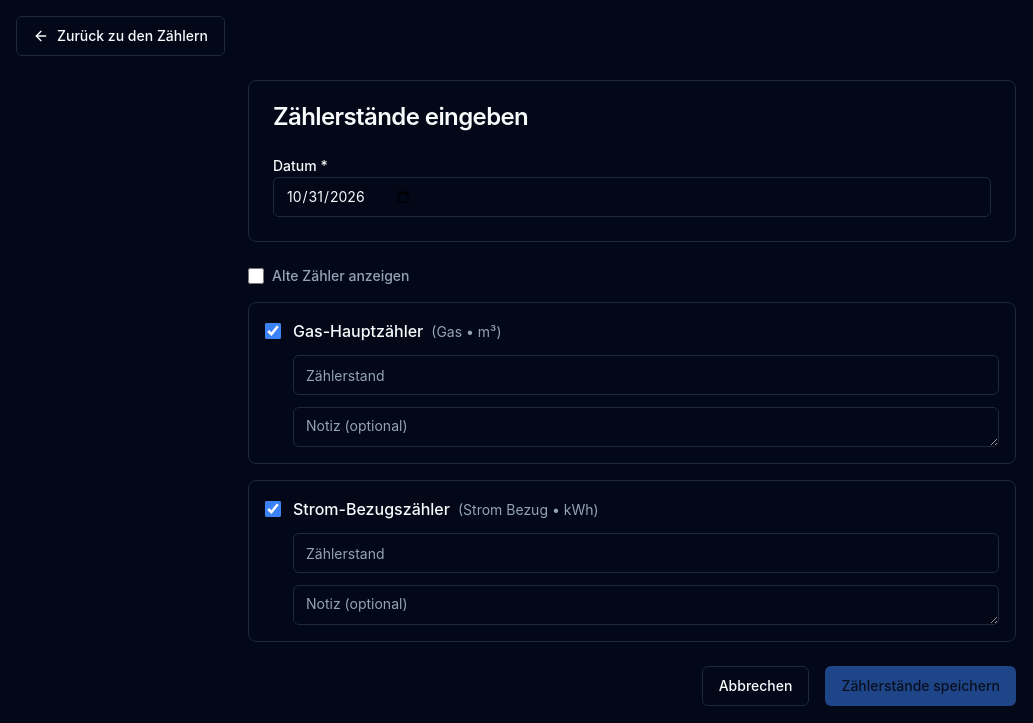
Scenario: AddReading (Zählerstände eintragen) › submits the entered value and chosen date for the filled meter only
Expected: the date field labelled "Datum *" is shown, [273,177,991,217]
Type "1234.5" into the number field labelled "Gas-Hauptzähler(Gas • m³)" at (646, 375), box [293,355,999,395]
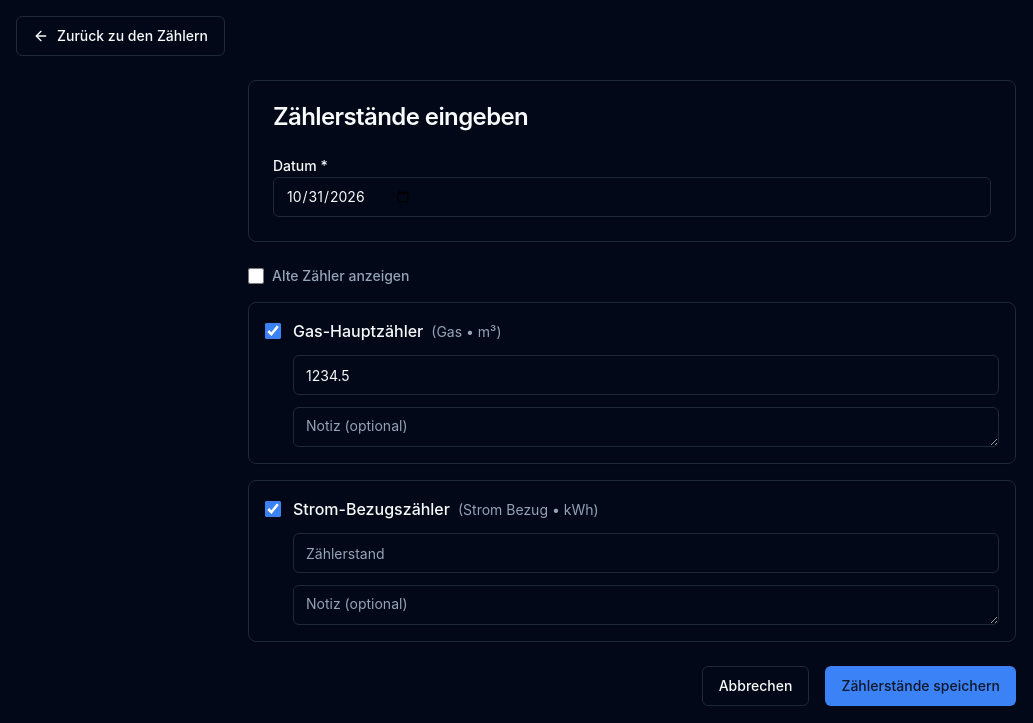
Type "2025-03-15" into the date field labelled "Datum *" at (632, 197), box [273,177,991,217]
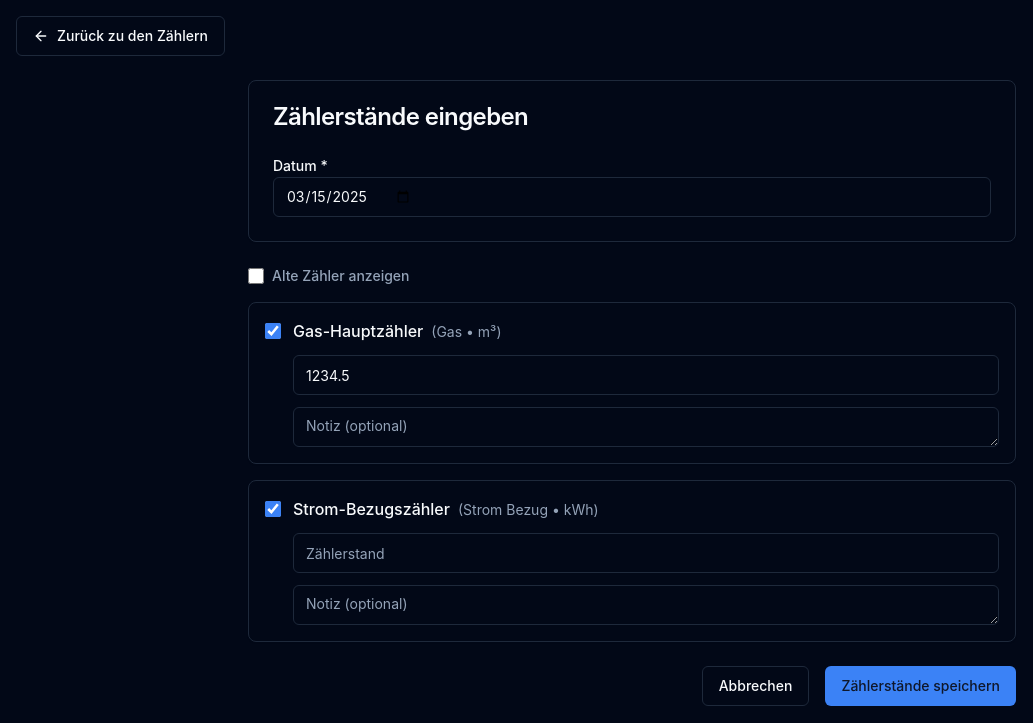
Click the button "Zählerstände speichern" at (921, 686), box [826,666,1016,706]
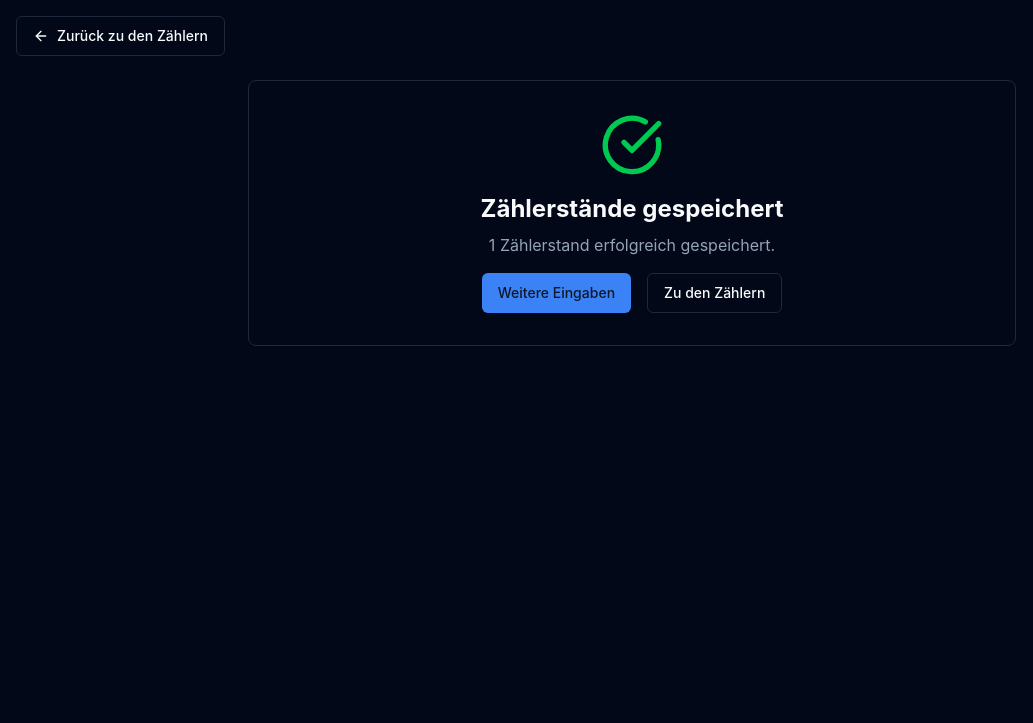
Expected: the heading "Zählerstände gespeichert" is shown, [480,194,784,223]
